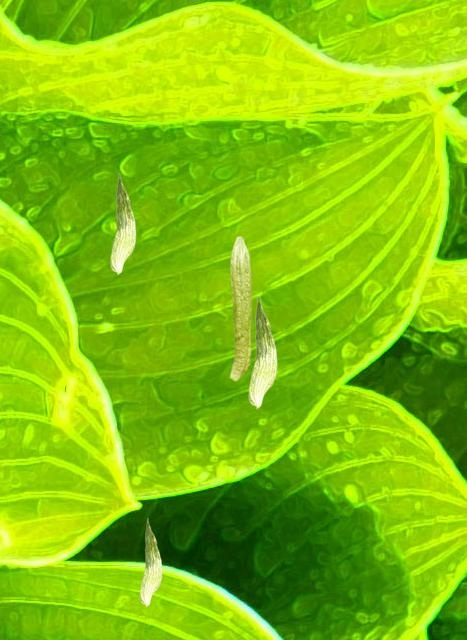ampalaya: (229, 235, 252, 381), (248, 295, 277, 409), (110, 172, 136, 275), (139, 517, 162, 607)
